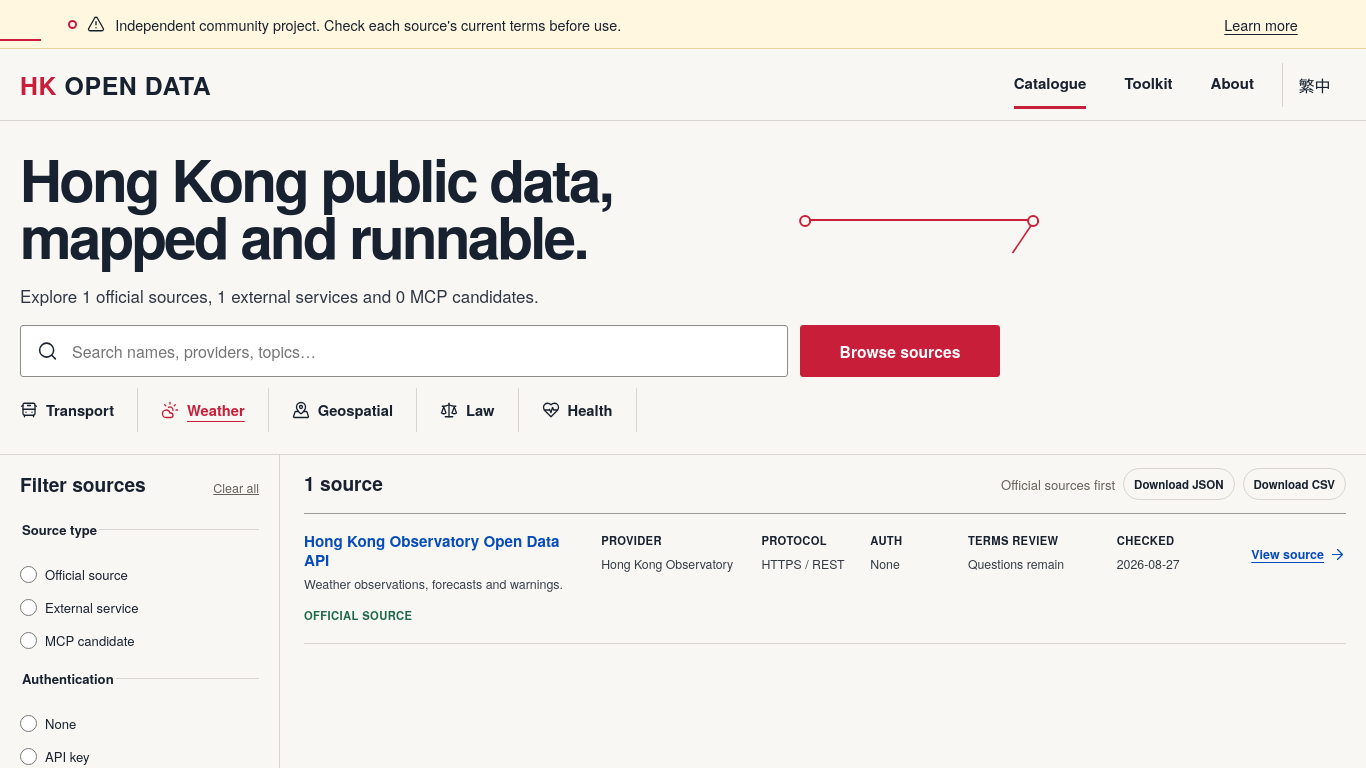
it: catalogue application › opens permanent category pages and links category navigation
Expected: the heading "1 source" is shown, [304,471,383,497]
Expected: the heading "Hong Kong Observatory Open Data API" is shown, [304,532,583,570]
Click the link "Weather" at (203, 410), box [138,388,269,432]
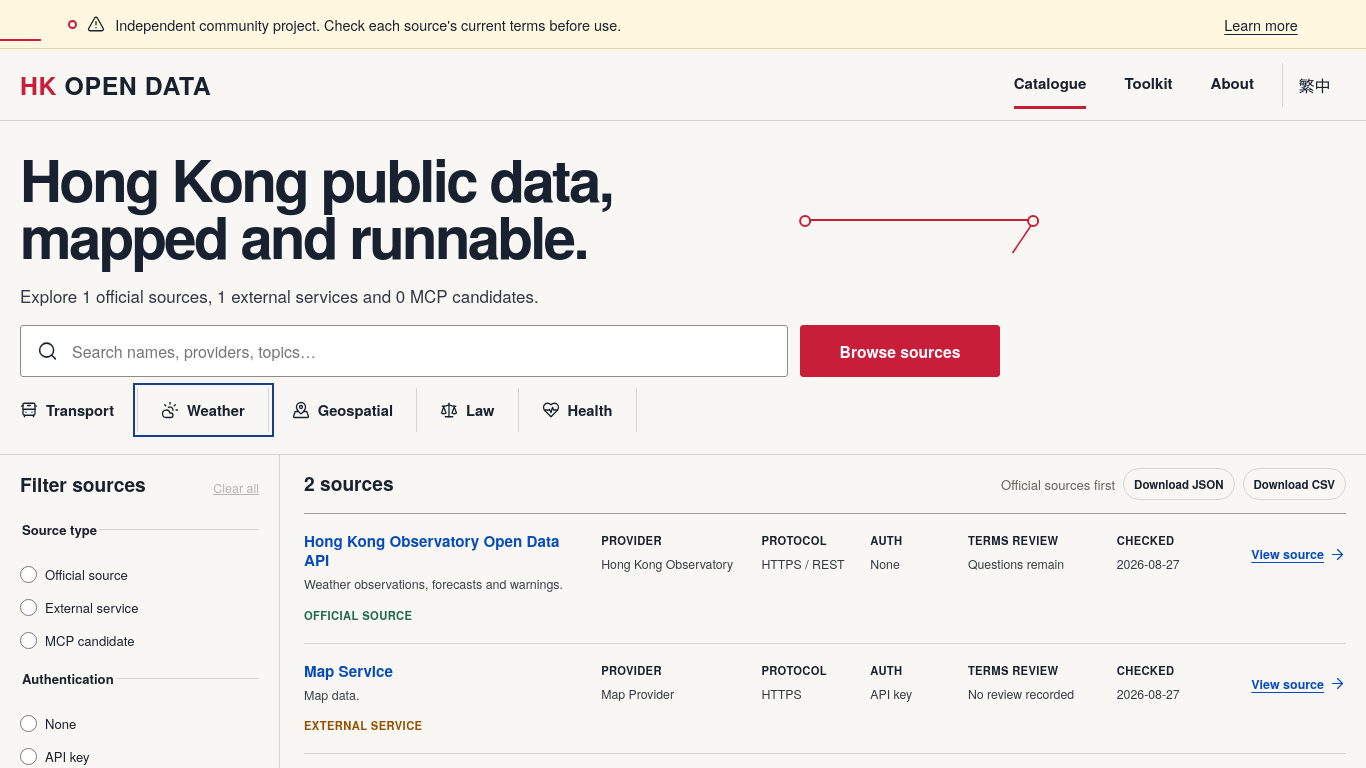
Now the heading "2 sources" is shown, box [304,471,394,497]
